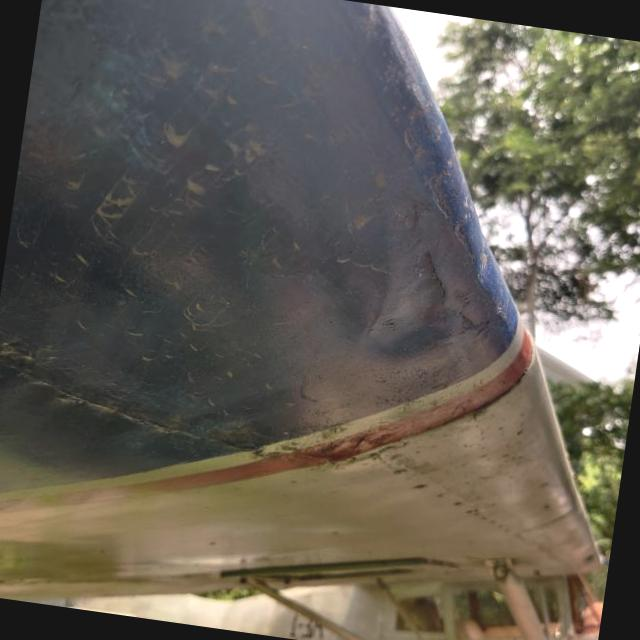dent: (261, 154, 503, 416)
